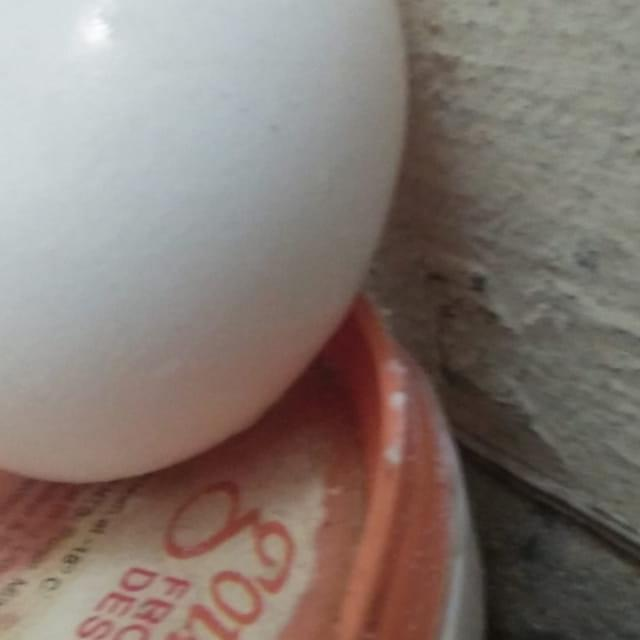egg: (0, 0, 414, 486)
